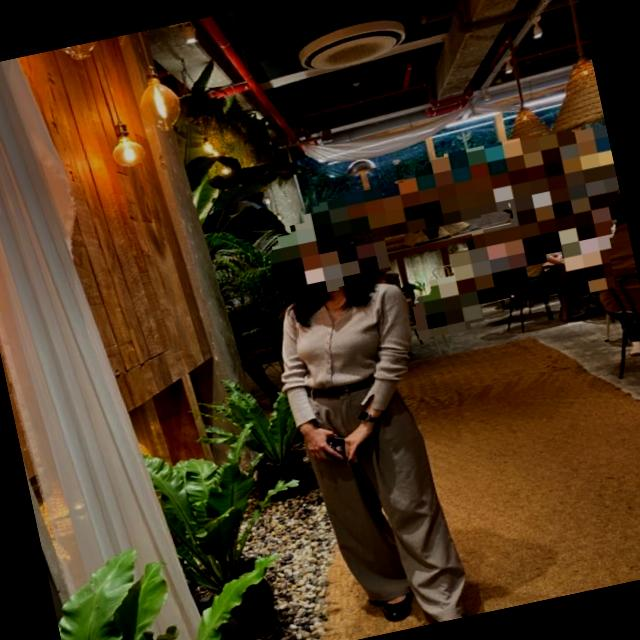cardigan: (264, 272, 430, 433)
slacks: (295, 357, 479, 640)
